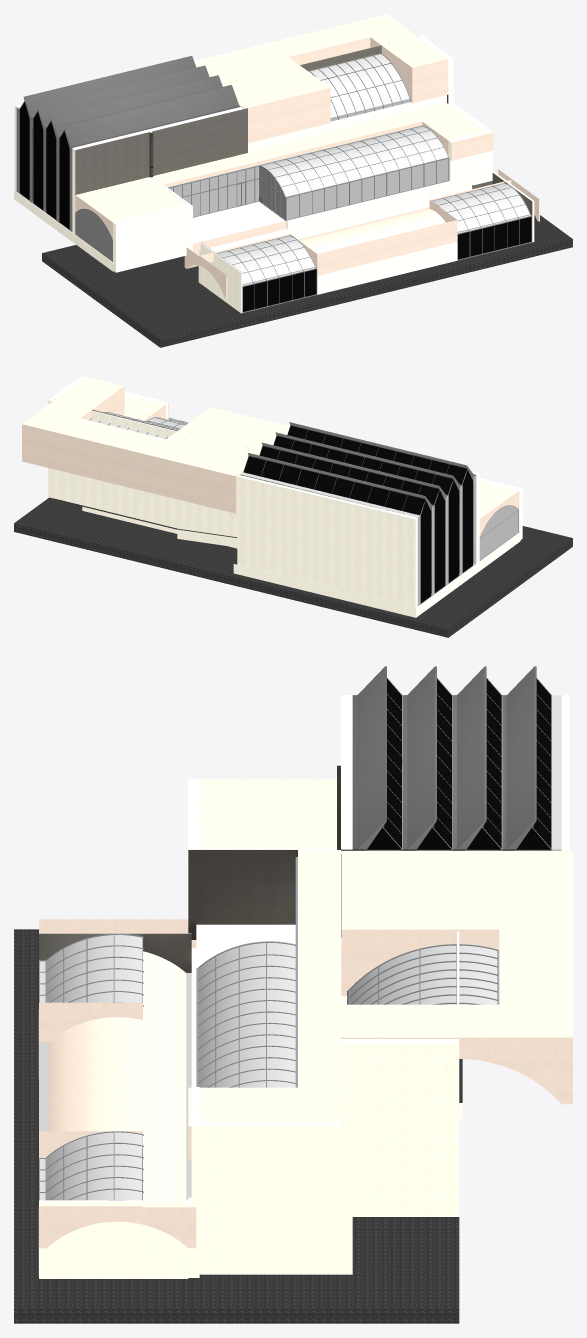
The picture shows the model from 3 angles, top to bottom: view 1: azimuth 30°, elevation 25°; view 2: azimuth 150°, elevation 25°; view 3: azimuth 270°, elevation 25°; orthographic projection. The views are drawn at different scales.
Visible parts, largest first — view 1: 01_floor, Rectangle783, 组269, Rectangle791, Rectangle782, Line004.003, Arc051, Line004, Arc001, 对象003, Rectangle184, Arc002 (+18 smaller); view 2: Line004, Rectangle783, 01_floor, 组269, Rectangle184, Rectangle791, Line148, block_975_, block_945_, block_937_, block_974_, Line142 (+5 smaller); view 3: Rectangle783, 01_floor, 组269, Rectangle782, Line004, Rectangle791, 对象, Arc051, Line001, Line004.006, 对象002, Arc001 (+7 smaller).
Boxes of the visible parts, x1=… form: 01_floor: x1=42, y1=215, x2=572, y2=347; Rectangle783: x1=194, y1=14, x2=448, y2=143; 组269: x1=19, y1=56, x2=240, y2=148; Rectangle791: x1=75, y1=103, x2=493, y2=239; Rectangle782: x1=184, y1=169, x2=539, y2=297; Line004.003: x1=75, y1=108, x2=247, y2=194; Arc051: x1=261, y1=126, x2=447, y2=196; Line004: x1=14, y1=35, x2=453, y2=272; Arc001: x1=309, y1=54, x2=409, y2=117; 对象003: x1=286, y1=158, x2=448, y2=219; Rectangle184: x1=14, y1=190, x2=284, y2=271; Arc002: x1=432, y1=183, x2=530, y2=233; Line004: x1=48, y1=376, x2=522, y2=608; Rectangle783: x1=22, y1=377, x2=289, y2=513; 01_floor: x1=14, y1=497, x2=572, y2=637; 组269: x1=243, y1=422, x2=475, y2=515; Rectangle184: x1=233, y1=532, x2=520, y2=617; Rectangle791: x1=124, y1=391, x2=519, y2=537; Line148: x1=479, y1=505, x2=518, y2=560; block_975_: x1=420, y1=500, x2=430, y2=603; block_945_: x1=448, y1=480, x2=458, y2=582; block_937_: x1=462, y1=470, x2=472, y2=572; block_974_: x1=434, y1=490, x2=444, y2=592; Line142: x1=240, y1=472, x2=420, y2=606; Rectangle783: x1=341, y1=850, x2=572, y2=1104; 01_floor: x1=14, y1=929, x2=459, y2=1323; 组269: x1=352, y1=666, x2=551, y2=849; Rectangle782: x1=39, y1=919, x2=196, y2=1248; Line004: x1=187, y1=695, x2=569, y2=1216; Rectangle791: x1=188, y1=779, x2=346, y2=1160; 对象: x1=191, y1=1087, x2=340, y2=1216; Arc051: x1=198, y1=943, x2=295, y2=1087; Line001: x1=188, y1=948, x2=352, y2=1277; Line004.006: x1=188, y1=765, x2=340, y2=939; 对象002: x1=39, y1=933, x2=191, y2=1278; Arc001: x1=349, y1=945, x2=497, y2=1004.
Size of what is drawn, in the model's own units: 79.24 by 27.33 by 49.41.
65 materials, 55 textured.
